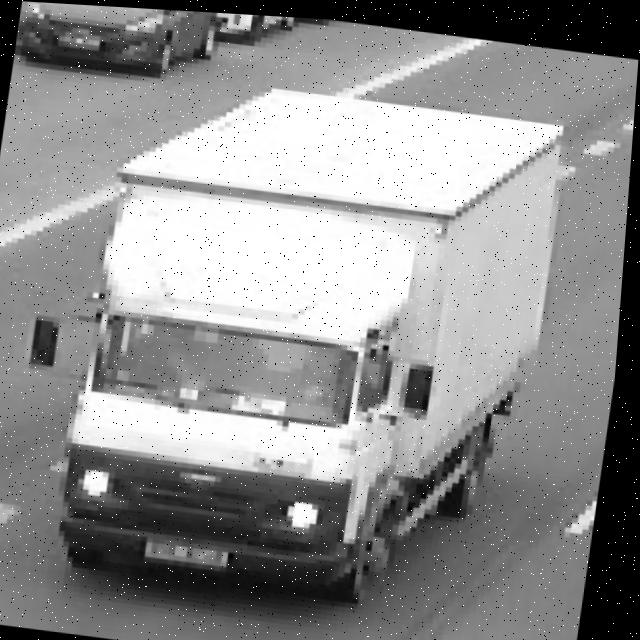truck: (9, 148, 480, 608)
